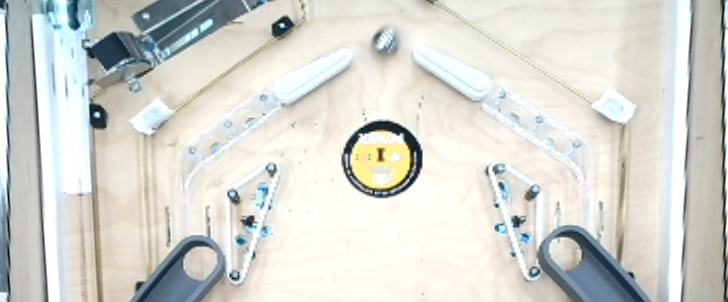ball: (365, 24, 406, 62)
flipper-left: (408, 39, 502, 110)
flipper-right: (272, 42, 358, 112)
